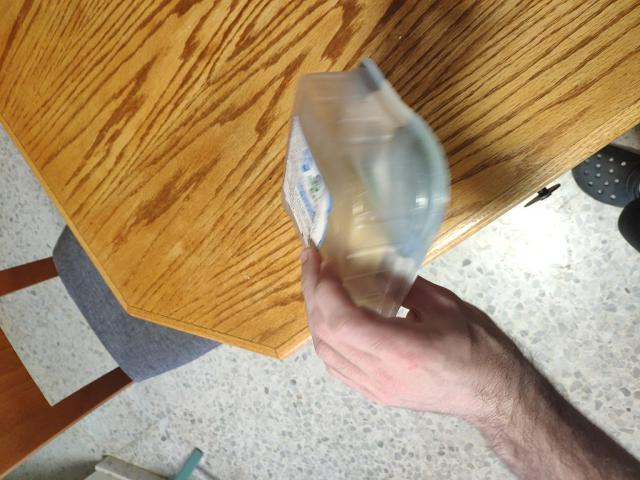cheese: (276, 57, 435, 366)
